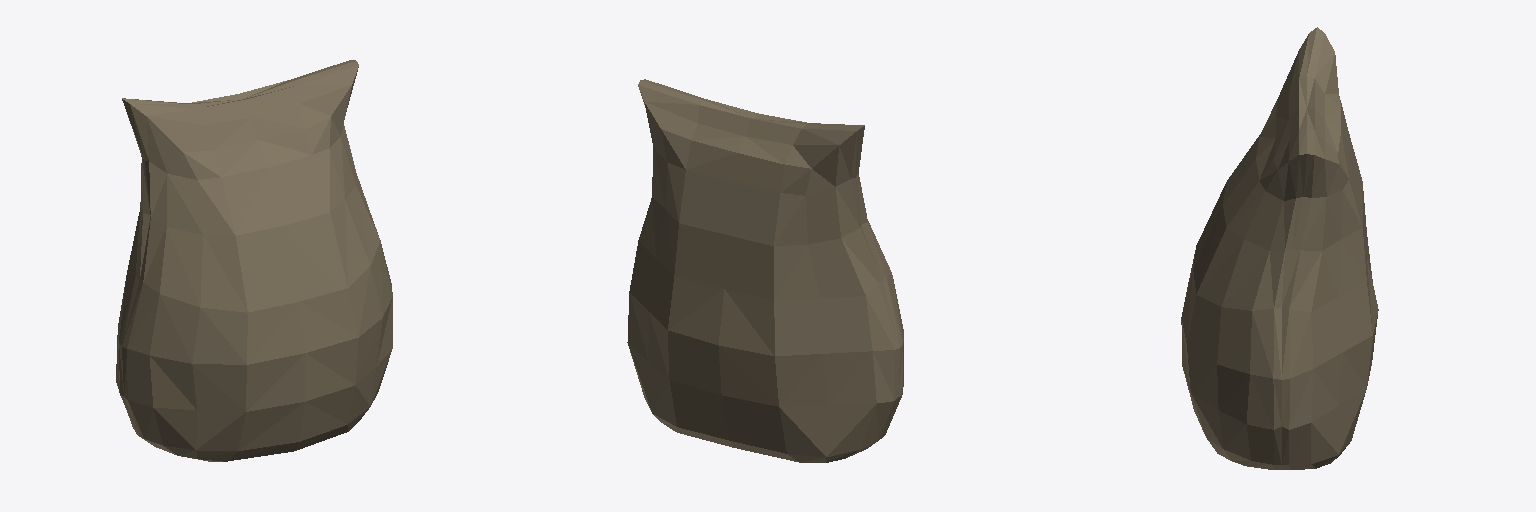
Rendered from sack.obj.
3 renders of one model, left to right at view 1: azimuth 30°, elevation 25°; view 2: azimuth 150°, elevation 25°; view 3: azimuth 270°, elevation 25°, orthographic.
Parts seen in each view (by area): view 1: GrainSack0; view 2: GrainSack0; view 3: GrainSack0.
Part boxes in pixels (x1,y1,x2,y2): GrainSack0: (116, 60, 392, 461); GrainSack0: (627, 79, 903, 462); GrainSack0: (1181, 27, 1378, 469).
Size of the model in its own units: 0.6656 by 0.8233 by 0.4269.